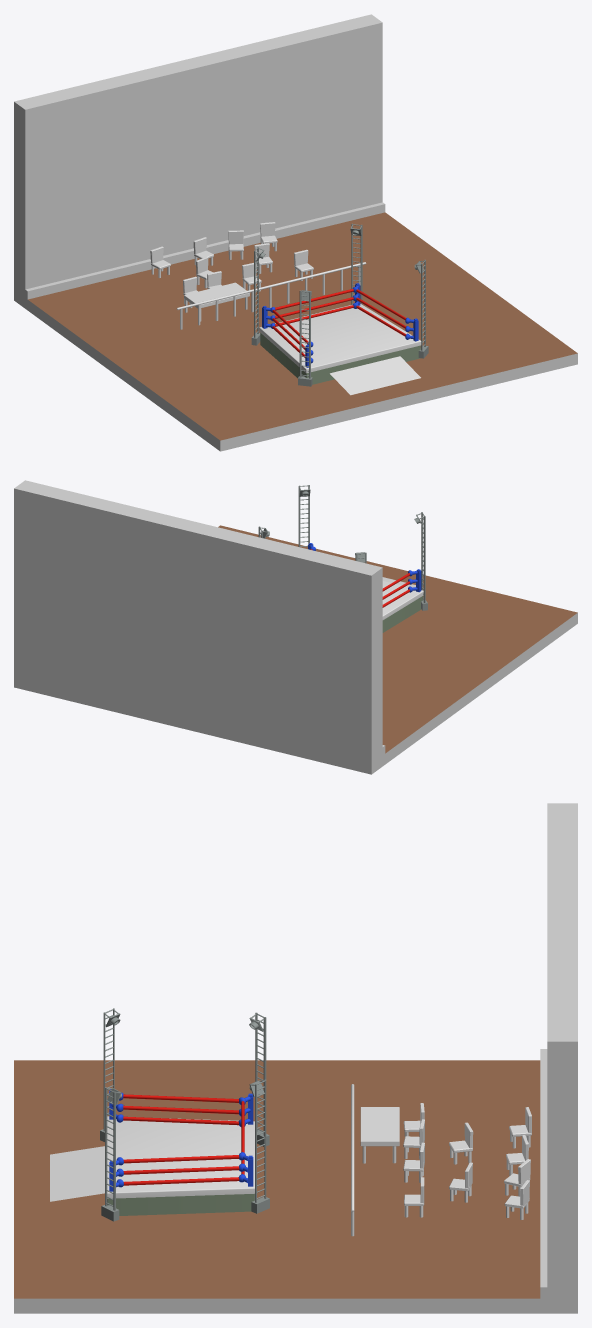
File: BoxingScene_v1.fbx
The picture shows the model from 3 angles, top to bottom: view 1: azimuth 30°, elevation 25°; view 2: azimuth 150°, elevation 25°; view 3: azimuth 270°, elevation 25°; orthographic projection. The views are drawn at different scales.
Parts seen in each view (by area): view 1: Ground, Boxing_Ring, score, Ironbarrier, table, Light3, light4, Light1; view 2: Ground, Boxing_Ring, Light3, light4; view 3: Ground, Boxing_Ring, score, table, light4, Light1, Light, Light3.
Boxes of the visible parts, left/top/right/bottom form: Ground: left=14, top=14, right=577, bottom=451; Boxing_Ring: left=259, top=283, right=421, bottom=384; score: left=330, top=356, right=420, bottom=395; Ironbarrier: left=176, top=262, right=366, bottom=329; table: left=184, top=282, right=249, bottom=321; Light3: left=298, top=290, right=312, bottom=386; light4: left=414, top=259, right=428, bottom=358; Light1: left=350, top=223, right=362, bottom=304; Ground: left=14, top=480, right=577, bottom=774; Boxing_Ring: left=308, top=543, right=423, bottom=632; Light3: left=414, top=512, right=427, bottom=610; light4: left=298, top=485, right=310, bottom=547; Ground: left=14, top=803, right=577, bottom=1313; Boxing_Ring: left=107, top=1089, right=254, bottom=1215; score: left=50, top=1146, right=104, bottom=1201; table: left=360, top=1107, right=399, bottom=1163; light4: left=101, top=1087, right=121, bottom=1221; Light1: left=249, top=1079, right=269, bottom=1213; Light: left=249, top=1012, right=269, bottom=1146; Light3: left=100, top=1008, right=120, bottom=1141.
Bounding box in the file's own units: 1700 × 904 × 1700.
12 materials, 1 textured.
